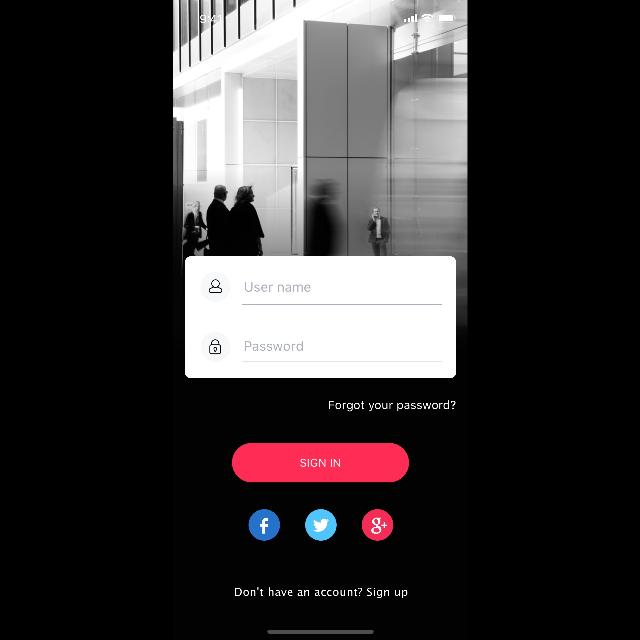icon: (248, 510, 280, 540), (304, 510, 336, 540), (362, 509, 392, 541), (200, 272, 230, 302), (200, 332, 230, 362)
image: (172, 1, 468, 256)
input: (242, 282, 442, 306), (242, 341, 442, 363)
text: (235, 588, 407, 598), (328, 401, 456, 412), (244, 282, 310, 292), (244, 341, 302, 351)
textbutton: (232, 443, 408, 482)
uppertaskbar: (199, 14, 456, 24)
